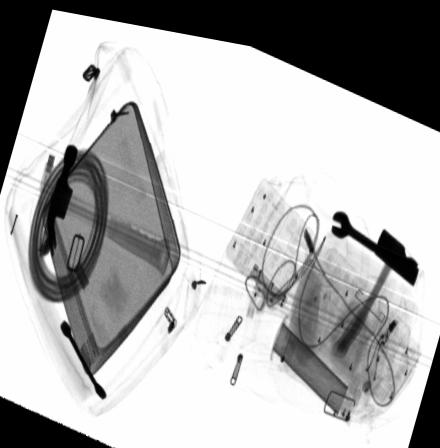Hammer: (45, 141, 172, 270), (333, 214, 418, 344)
Wrench: (331, 199, 419, 263), (60, 316, 106, 398)
